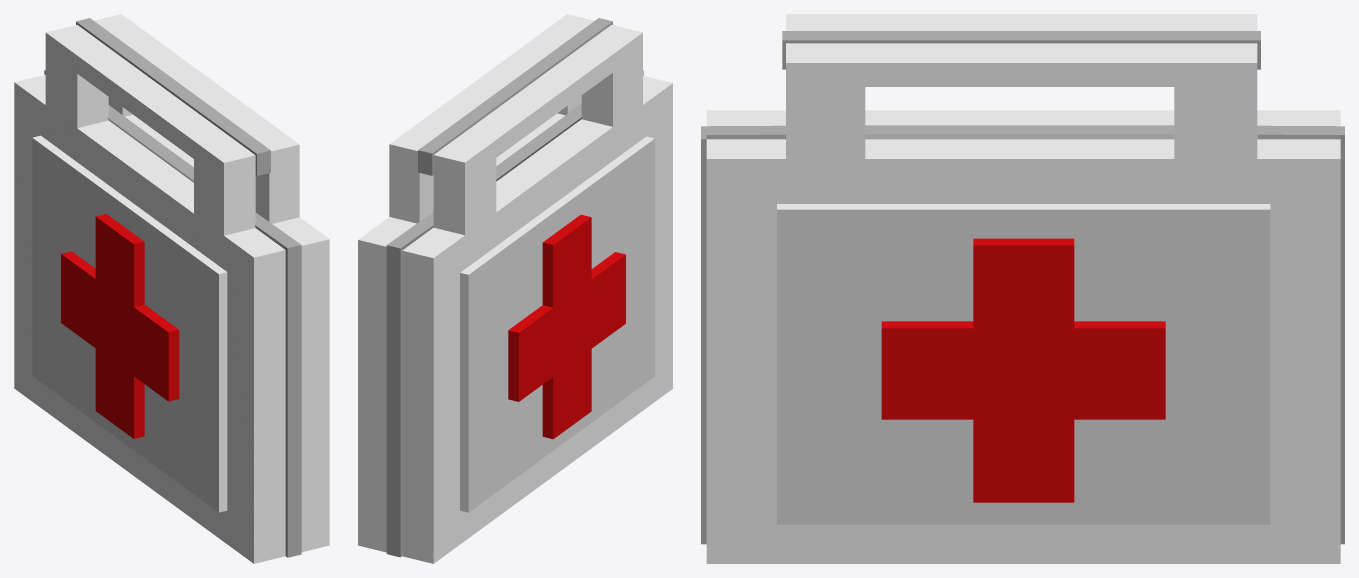
Rendered from MedKit.fbx.
The picture shows the model from 3 angles, left to right: view 1: azimuth 30°, elevation 25°; view 2: azimuth 150°, elevation 25°; view 3: azimuth 270°, elevation 25°; orthographic projection. The views are drawn at different scales.
Visible parts, largest first — view 1: Cube; view 2: Cube; view 3: Cube.
Boxes of the visible parts, x1,y1,x2,y2 form: Cube: (14, 14, 329, 563); Cube: (358, 14, 672, 563); Cube: (701, 14, 1344, 563).
Size of the model in its own units: 74.74 by 238 by 276.
